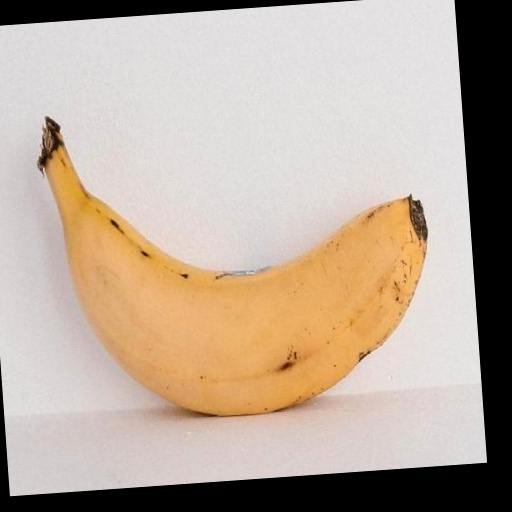fruit: (39, 118, 427, 415)
